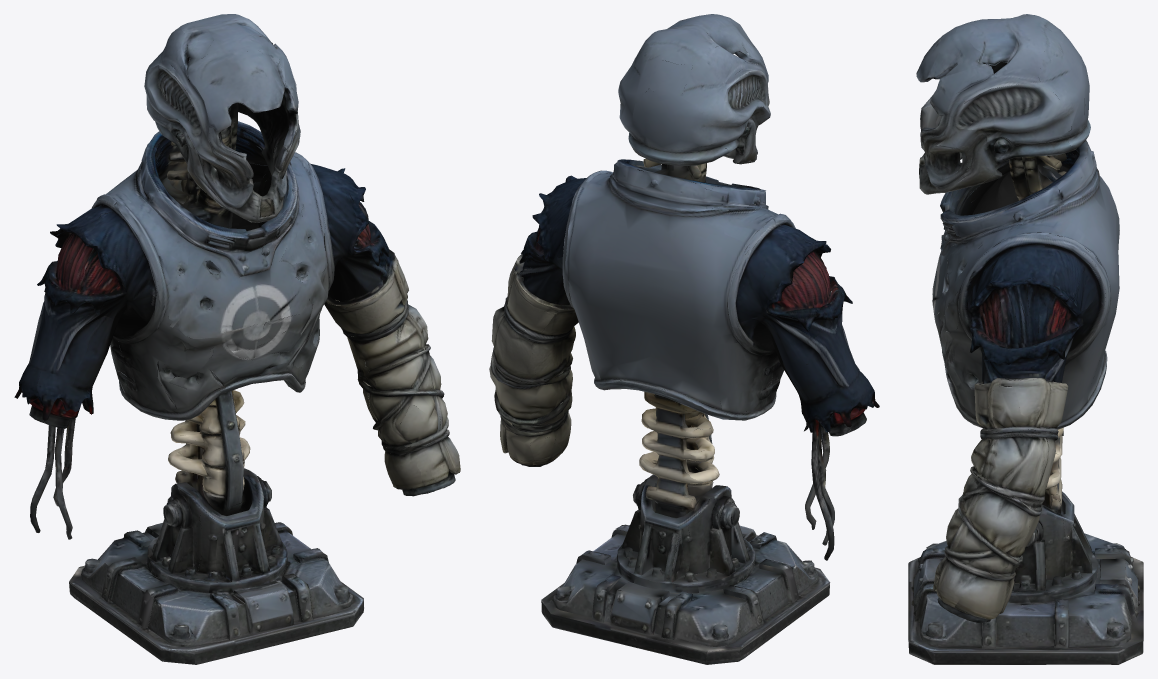
Rendered from life_training_dummy.glb.
The picture shows the model from 3 angles, left to right: view 1: azimuth 30°, elevation 25°; view 2: azimuth 150°, elevation 25°; view 3: azimuth 270°, elevation 25°; orthographic projection. The views are drawn at different scales.
Visible parts, largest first — view 1: node_0; view 2: node_0; view 3: node_0.
Part boxes in pixels (x1=…): node_0: x1=14, y1=14, x2=460, y2=664; node_0: x1=489, y1=14, x2=879, y2=664; node_0: x1=908, y1=14, x2=1143, y2=664.
Size of the model in its own units: 0.776 by 1.08 by 0.3892.
1 material, 1 textured.
